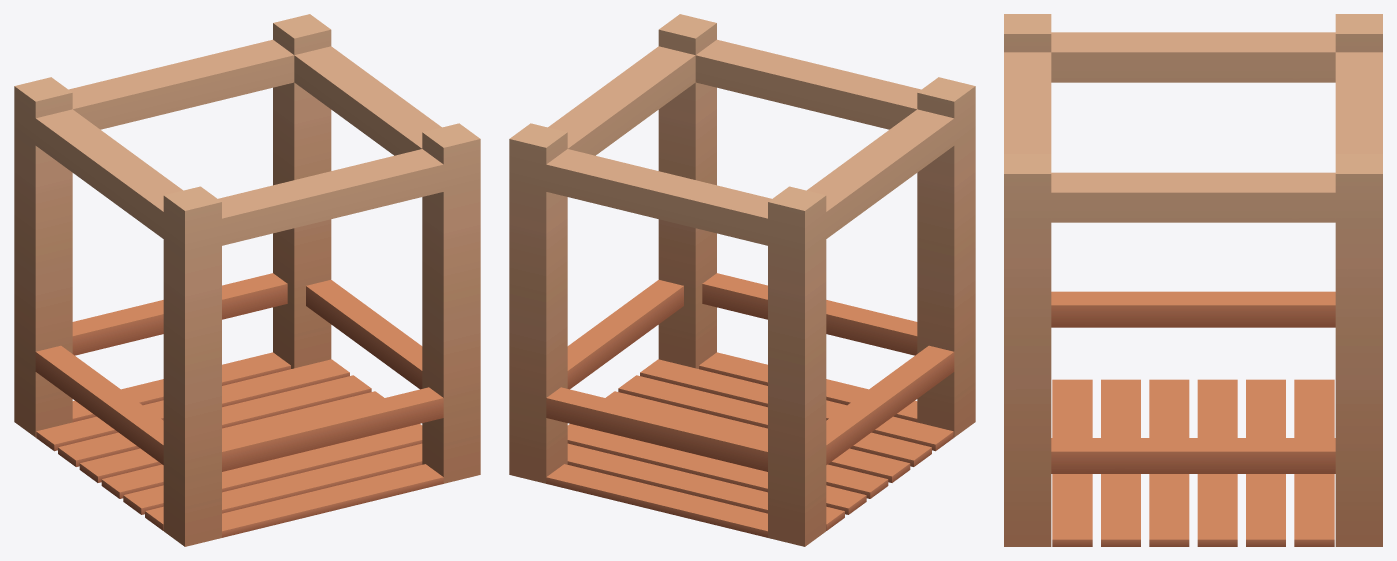
Rendered from kenney-castle-tower-square-mid-open.glb.
The picture shows the model from 3 angles, left to right: view 1: azimuth 30°, elevation 25°; view 2: azimuth 150°, elevation 25°; view 3: azimuth 270°, elevation 25°; orthographic projection. The views are drawn at different scales.
Visible parts, largest first — view 1: tower-square-mid-open; view 2: tower-square-mid-open; view 3: tower-square-mid-open.
Part boxes in pixels (bbox=[...]): tower-square-mid-open: bbox=[14, 14, 480, 546]; tower-square-mid-open: bbox=[509, 14, 975, 546]; tower-square-mid-open: bbox=[1004, 14, 1382, 546].
Bounding box in the file's own units: 0.93 × 1.01 × 0.93.
1 material, 1 textured.
